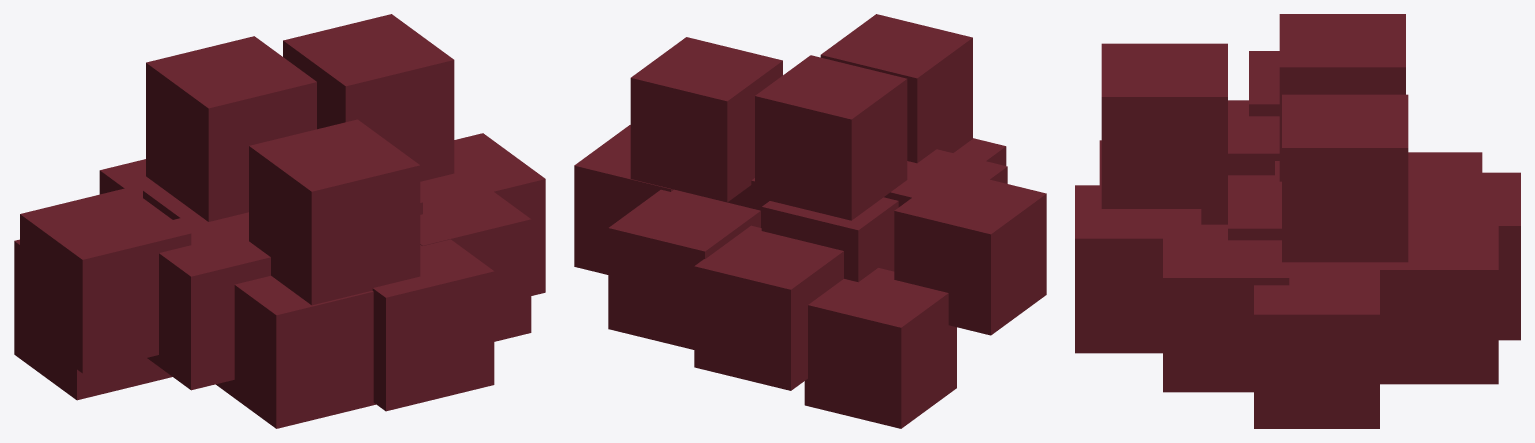
The model's file is beet.fbx.
The picture shows the model from 3 angles, left to right: view 1: azimuth 30°, elevation 25°; view 2: azimuth 150°, elevation 25°; view 3: azimuth 270°, elevation 25°; orthographic projection. The views are drawn at different scales.
Parts seen in each view (by area): view 1: Cube; view 2: Cube; view 3: Cube.
Boxes of the visible parts, box(x1,y1,x2,y2) form: Cube: box(14, 14, 545, 428); Cube: box(574, 14, 1046, 428); Cube: box(1075, 14, 1520, 428).
Bounding box in the file's own units: 214 × 131 × 177.
